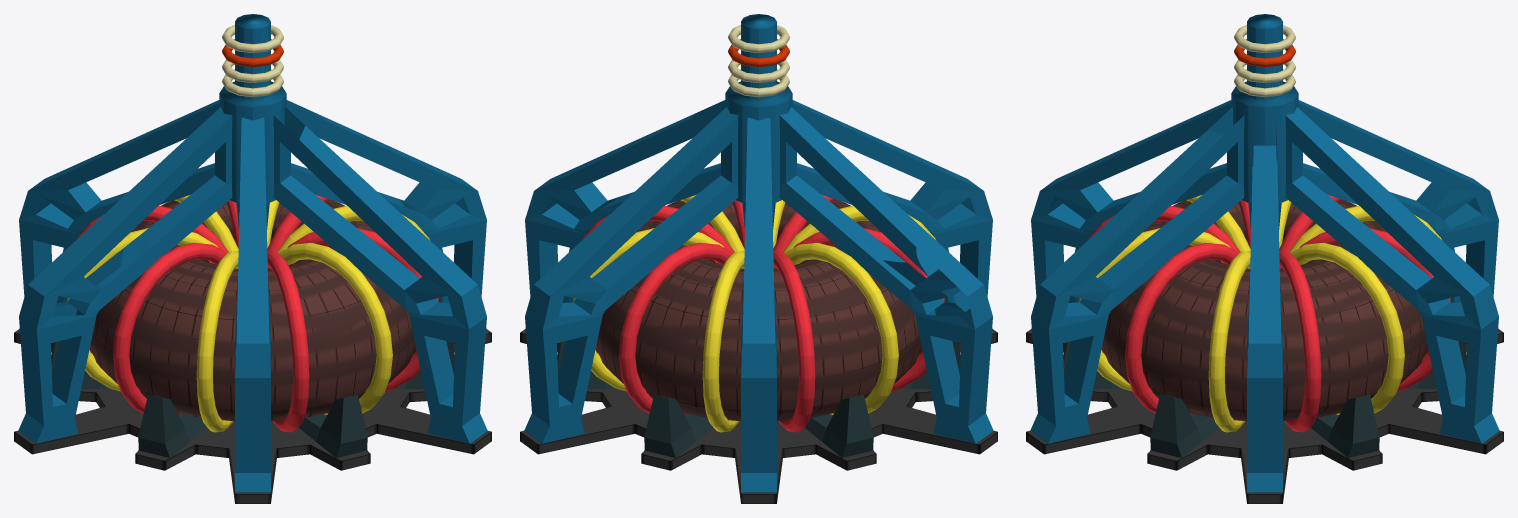
The model's file is PowerPlant.fbx.
The picture shows the model from 3 angles, left to right: view 1: azimuth 30°, elevation 25°; view 2: azimuth 150°, elevation 25°; view 3: azimuth 270°, elevation 25°; orthographic projection.
Parts seen in each view (by area): view 1: BigLegs, BigCoil, CoilRings, Foundation, LowerLegs, Pole, TopRings; view 2: BigLegs, BigCoil, CoilRings, Foundation, LowerLegs, Pole, TopRings; view 3: BigLegs, BigCoil, CoilRings, Foundation, LowerLegs, Pole, TopRings.
Part boxes in pixels (x1,y1,x2,y2): BigLegs: (18, 100, 487, 492); BigCoil: (89, 200, 416, 421); CoilRings: (67, 195, 438, 432); Foundation: (14, 328, 491, 503); LowerLegs: (51, 341, 454, 457); Pole: (219, 14, 286, 228); TopRings: (222, 25, 283, 97); BigLegs: (524, 100, 993, 492); BigCoil: (595, 200, 922, 421); CoilRings: (573, 195, 944, 432); Foundation: (520, 328, 997, 503); LowerLegs: (557, 341, 960, 457); Pole: (725, 14, 792, 228); TopRings: (728, 25, 789, 97); BigLegs: (1030, 100, 1499, 492); BigCoil: (1101, 200, 1428, 421); CoilRings: (1079, 195, 1450, 432); Foundation: (1026, 328, 1503, 503); LowerLegs: (1063, 341, 1466, 457); Pole: (1231, 14, 1298, 228); TopRings: (1234, 25, 1295, 97).
Size of the model in its own units: 2959 by 2277 by 2662.
6 materials, 6 textured.
